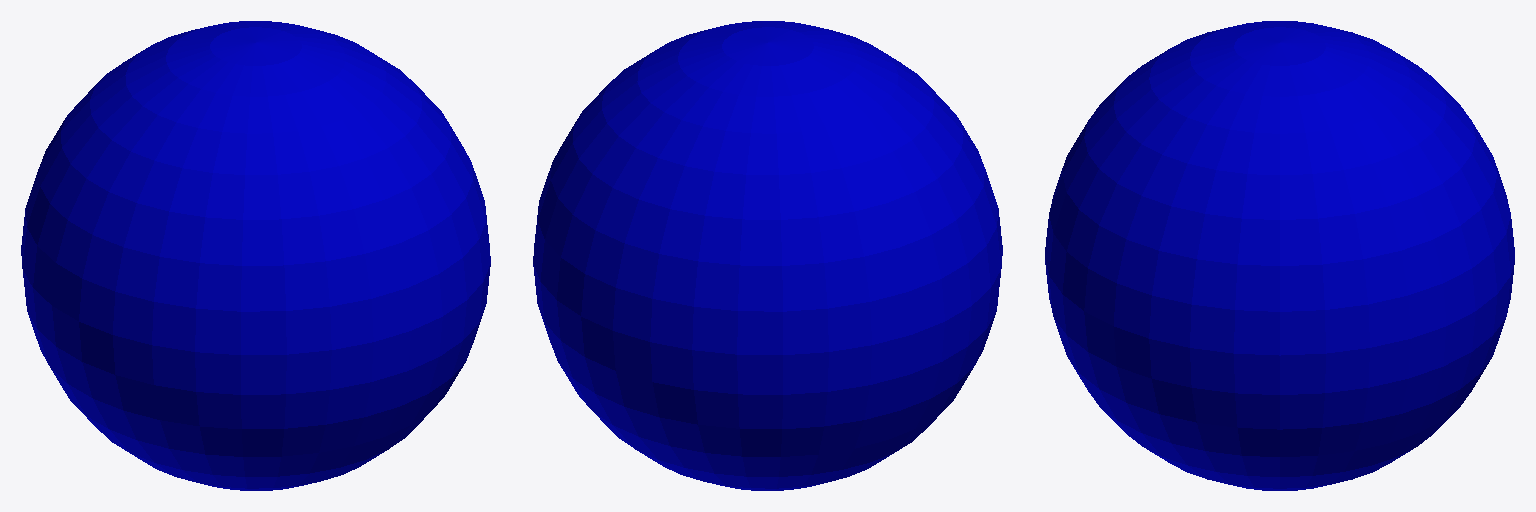
The model's file is lila_gomb.obj.
The picture shows the model from 3 angles: view 1: azimuth 30°, elevation 25°; view 2: azimuth 150°, elevation 25°; view 3: azimuth 270°, elevation 25°; orthographic projection.
Visible parts, largest first — view 1: Sphere; view 2: Sphere; view 3: Sphere.
Part boxes in pixels (x1,y1,x2,y2): Sphere: (21,21,490,490); Sphere: (533,21,1002,490); Sphere: (1045,21,1514,490).
Bounding box in the file's own units: 2 × 2 × 2.